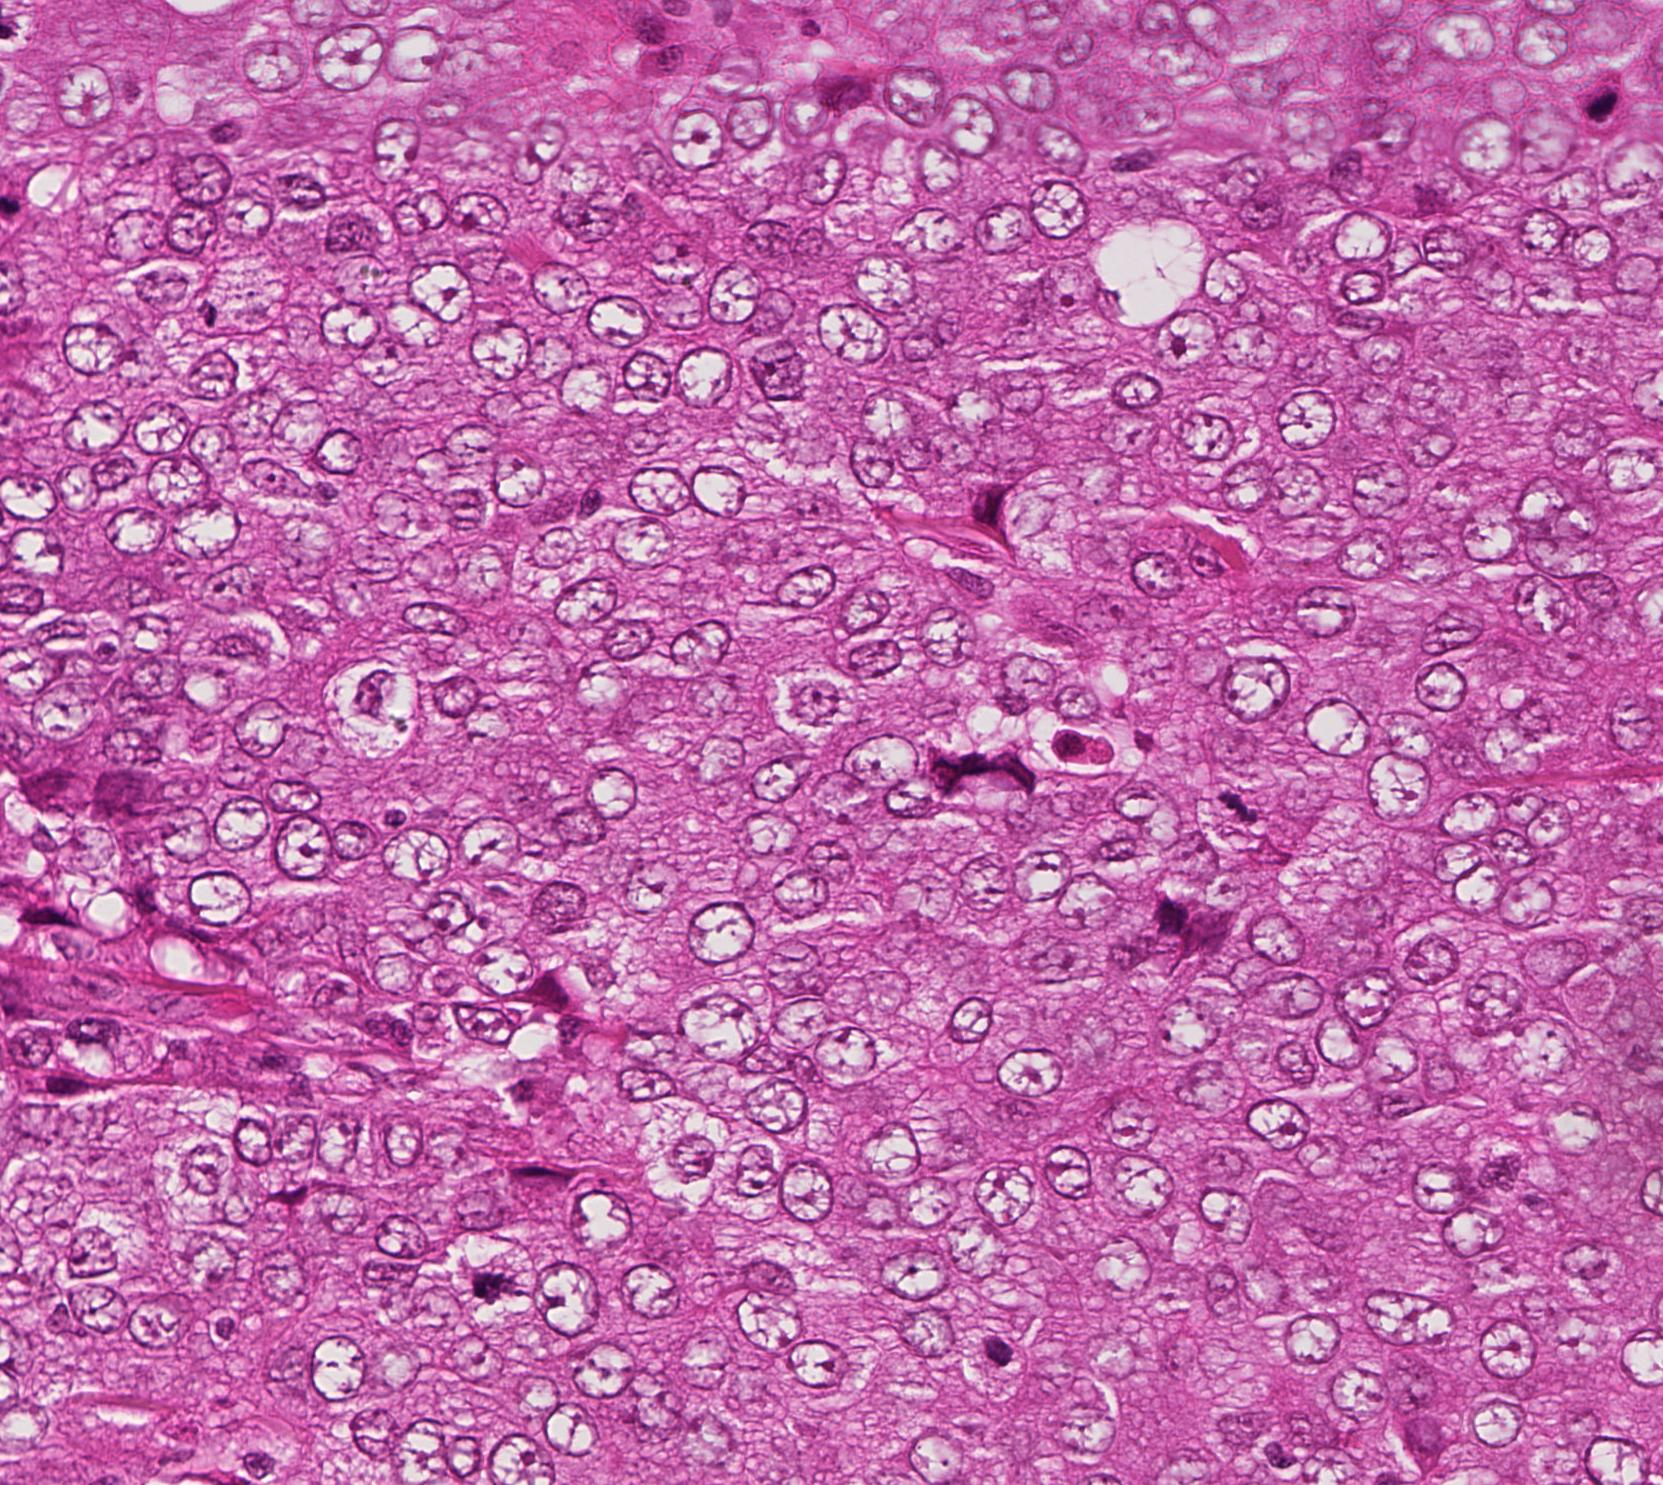mitosis: (1211, 780, 1272, 840)
